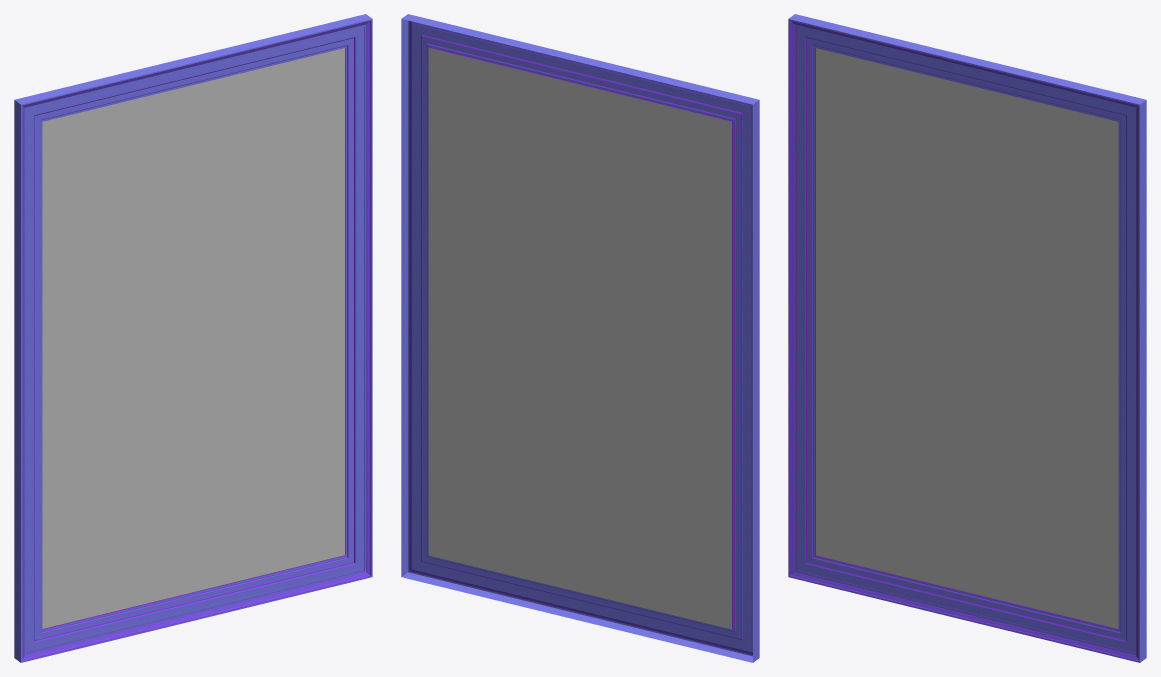
The picture shows the model from 3 angles, left to right: view 1: azimuth 30°, elevation 25°; view 2: azimuth 150°, elevation 25°; view 3: azimuth 330°, elevation 25°; orthographic projection.
Parts seen in each view (by area): view 1: _14_07, _14_07_frame; view 2: _14_07, _14_07_frame; view 3: _14_07, _14_07_frame.
Part boxes in pixels (<box>): _14_07: <box>42,48,344,628</box>; _14_07_frame: <box>14,14,372,662</box>; _14_07: <box>428,48,731,629</box>; _14_07_frame: <box>401,14,759,662</box>; _14_07: <box>816,48,1118,628</box>; _14_07_frame: <box>788,14,1146,662</box>.
Bounding box in the file's own units: 261 × 396 × 8.58.
